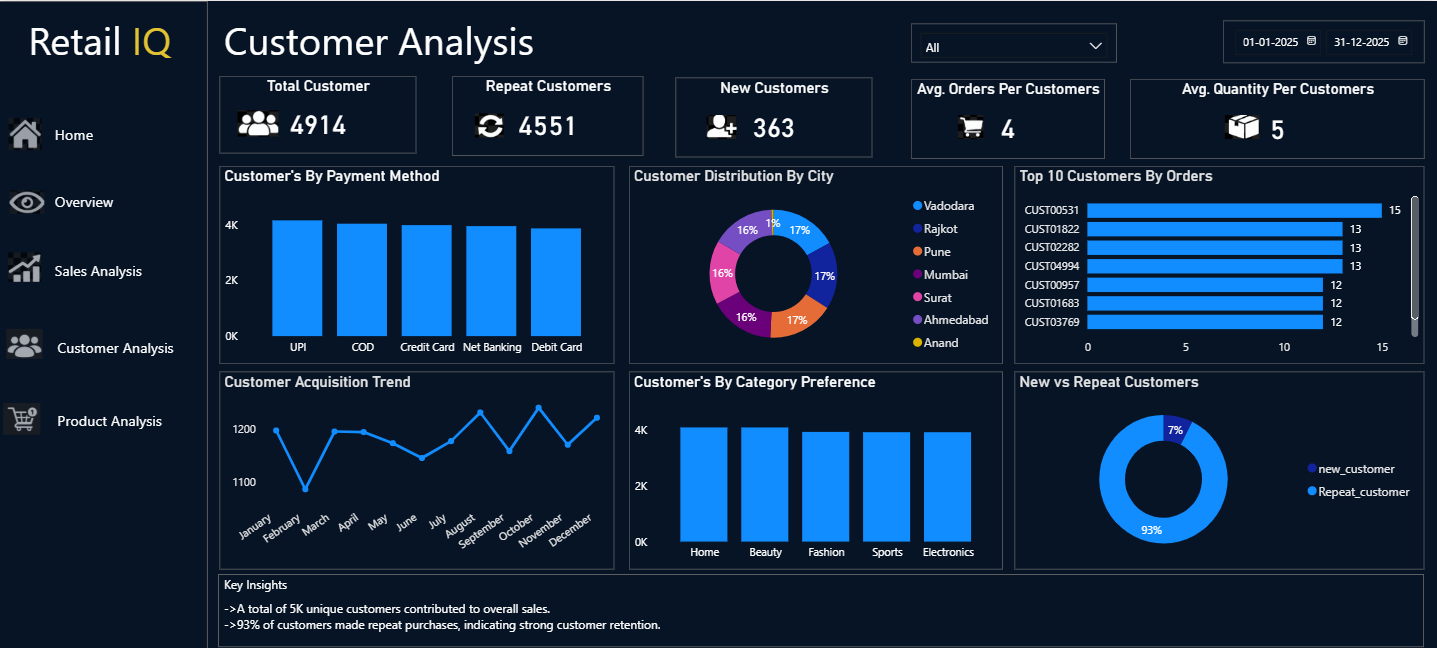

Layout of this report page (visuals, bound fields, positions):
{"tool":"powerbi","page":{"name":"Customer Analysis","canvas":[1600,720],"ordinal":3},"visuals":[{"type":"shape","box":[0,0,232,720],"z":0},{"type":"textbox","box":[0,8,224,88],"z":1000},{"type":"textbox","box":[0,132,224,52],"z":2000},{"type":"textbox","box":[0,206,224,52],"z":3000},{"type":"textbox","box":[0,284,224,52],"z":4000},{"type":"textbox","box":[0,368,224,52],"z":5000},{"type":"card","title":"Total Customer","fields":{"Values":["Count(Cleaned_Ecommercedataset.customer_id)"]},"box":[245.7,82.9,218.6,85.7],"z":6000},{"type":"card","title":"Repeat Customers","fields":{"Values":["Cleaned_Ecommercedataset.Repeat_customer"]},"box":[502.9,82.9,212.9,88.6],"z":7000},{"type":"card","title":"New Customers","fields":{"Values":["Cleaned_Ecommercedataset.new_customer"]},"box":[751.7,85,218.3,88.3],"z":8000},{"type":"card","title":"Avg. Orders Per Customers","fields":{"Values":["Cleaned_Ecommercedataset.Avg orders per customer"]},"box":[1013.3,86.7,215,88.3],"z":9000},{"type":"image","box":[3.3,446.7,43.3,35],"z":10000},{"type":"image","box":[8.3,358.3,40,45],"z":11000},{"type":"image","box":[10,130,38,36],"z":12000},{"type":"image","box":[10,273.3,36.7,45],"z":13000},{"type":"textbox","box":[46.7,450,176.7,51.7],"z":14000},{"type":"image","box":[11.7,205,38.3,36.7],"z":15000},{"type":"textbox","box":[245.7,8.6,437.1,71.4],"z":16000},{"type":"slicer","fields":{"Values":["Cleaned_Ecommercedataset.city"]},"box":[1013.3,25,228.3,43.3],"z":17000},{"type":"clusteredColumnChart","title":"Customer''s By Payment Method","fields":{"Y":["CountNonNull(Cleaned_Ecommercedataset.customer_id)"],"Category":["Cleaned_Ecommercedataset.payment_method"]},"box":[245,183.3,438.3,220],"z":18000},{"type":"donutChart","title":"Customer Distribution By City","fields":{"Category":["Cleaned_Ecommercedataset.city"],"Y":["Sum(Cleaned_Ecommercedataset.order_value)"]},"box":[700,183.3,415,220],"z":19000},{"type":"clusteredBarChart","title":"Top 10 Customers By Orders","fields":{"Y":["CountNonNull(Cleaned_Ecommercedataset.order_id)"],"Category":["Cleaned_Ecommercedataset.customer_id"]},"box":[1128.3,183.3,455,220],"z":20000},{"type":"slicer","fields":{"Values":["Cleaned_Ecommercedataset.order_date"]},"box":[1360,21.4,224.3,47.1],"z":21000},{"type":"lineChart","title":"Customer Acquisition Trend","fields":{"Category":["Cleaned_Ecommercedataset.order_date.Variation.Date Hierarchy.Month"],"Y":["Cleaned_Ecommercedataset.new_customer"]},"box":[245,411.7,438.3,220],"z":22000},{"type":"lineClusteredColumnComboChart","title":"Customer''s By Category Preference","fields":{"Y":["CountNonNull(Cleaned_Ecommercedataset.customer_id)"],"Category":["Cleaned_Ecommercedataset.category"]},"box":[700,412,415,220],"z":23000},{"type":"card","title":"Avg. Quantity Per Customers","fields":{"Values":["Cleaned_Ecommercedataset.avg_qty_per_customer"]},"box":[1256.8,87.1,327.4,89],"z":24000},{"type":"donutChart","title":"New vs Repeat Customers","fields":{"Y":["Cleaned_Ecommercedataset.new_customer","Cleaned_Ecommercedataset.Repeat_customer"]},"box":[1128.3,411.7,455,220],"z":25000},{"type":"textbox","box":[245,633.3,123.3,31.7],"z":26000},{"type":"textbox","box":[245,660,1340,53.3],"z":27000},{"type":"shape","box":[244.2,636,1340.1,81.4],"z":28000},{"type":"shape","box":[1.7,433.3,195,61.7],"z":29000},{"type":"shape","box":[3.3,198.3,195,61.7],"z":30000},{"type":"shape","box":[8.3,115,195,61.7],"z":31000},{"type":"image","box":[265,119.2,45.4,32.2],"z":32000},{"type":"image","box":[520.5,124.9,49.2,26.5],"z":33000},{"type":"image","box":[777.9,126.8,49.2,26.5],"z":34000},{"type":"image","box":[1054.3,126.8,49.2,26.5],"z":35000},{"type":"image","box":[1357.1,126.8,49.2,26.5],"z":36000},{"type":"shape","box":[5.7,437.2,195,62.5],"z":37000},{"type":"shape","box":[3.8,266.9,195,62.5],"z":38000}]}

Visuals, with their boxes in screenshot pixels (x1, y1, x2, y2), scaled from the page's 1600x720 canvas onto the 1437x648 screenshot:
shape: left=0, top=0, right=208, bottom=647
textbox: left=0, top=7, right=201, bottom=86
textbox: left=0, top=119, right=201, bottom=166
textbox: left=0, top=185, right=201, bottom=232
textbox: left=0, top=256, right=201, bottom=302
textbox: left=0, top=331, right=201, bottom=378
"Total Customer" card: left=221, top=75, right=417, bottom=152
"Repeat Customers" card: left=452, top=75, right=643, bottom=154
"New Customers" card: left=675, top=76, right=871, bottom=156
"Avg. Orders Per Customers" card: left=910, top=78, right=1103, bottom=158
image: left=3, top=402, right=42, bottom=434
image: left=7, top=322, right=43, bottom=363
image: left=9, top=117, right=43, bottom=149
image: left=9, top=246, right=42, bottom=286
textbox: left=42, top=405, right=201, bottom=452
image: left=11, top=184, right=45, bottom=218
textbox: left=221, top=8, right=613, bottom=72
slicer - Cleaned_Ecommercedataset.city: left=910, top=22, right=1115, bottom=61
"Customer''s By Payment Method" clusteredColumnChart: left=220, top=165, right=614, bottom=363
"Customer Distribution By City" donutChart: left=629, top=165, right=1001, bottom=363
"Top 10 Customers By Orders" clusteredBarChart: left=1013, top=165, right=1422, bottom=363
slicer - Cleaned_Ecommercedataset.order_date: left=1221, top=19, right=1423, bottom=62
"Customer Acquisition Trend" lineChart: left=220, top=371, right=614, bottom=569
"Customer''s By Category Preference" lineClusteredColumnComboChart: left=629, top=371, right=1001, bottom=569
"Avg. Quantity Per Customers" card: left=1129, top=78, right=1423, bottom=158
"New vs Repeat Customers" donutChart: left=1013, top=371, right=1422, bottom=569
textbox: left=220, top=570, right=331, bottom=598
textbox: left=220, top=594, right=1424, bottom=642
shape: left=219, top=572, right=1423, bottom=646
shape: left=2, top=390, right=177, bottom=446
shape: left=3, top=178, right=178, bottom=234
shape: left=7, top=104, right=183, bottom=159
image: left=238, top=107, right=279, bottom=136
image: left=467, top=112, right=512, bottom=136
image: left=699, top=114, right=743, bottom=138
image: left=947, top=114, right=991, bottom=138
image: left=1219, top=114, right=1263, bottom=138
shape: left=5, top=393, right=180, bottom=450
shape: left=3, top=240, right=179, bottom=296
